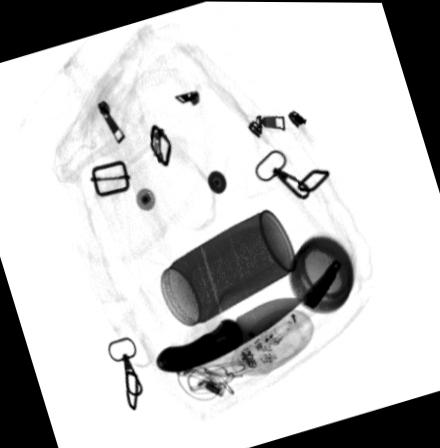Knife: (151, 294, 309, 373)
